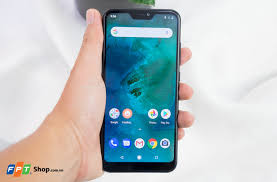mi: (98, 4, 182, 173)
